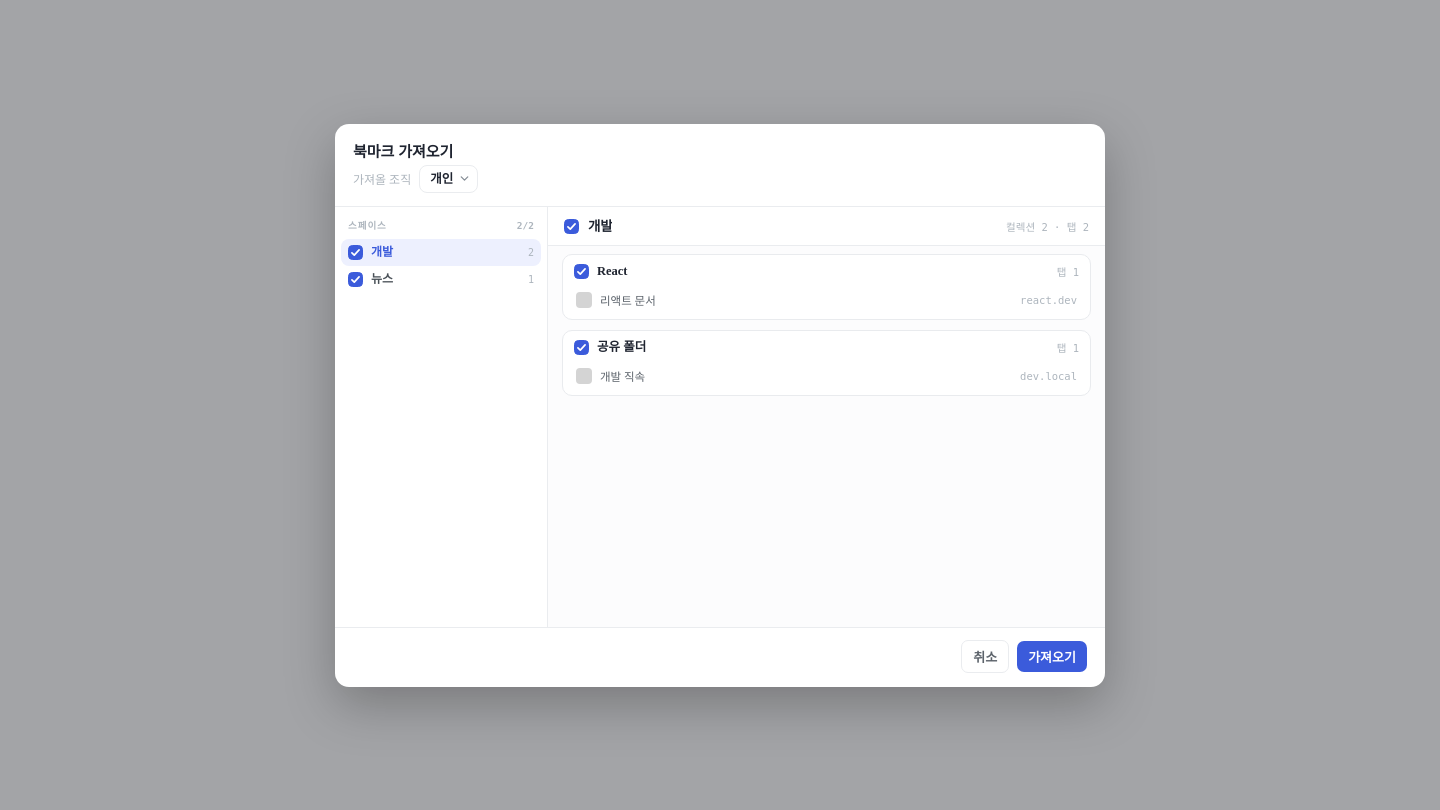
Test: ImportBookmarksDialog › 보드 헤더 체크박스도 스페이스 전체를 토글한다
Click the checkbox named "개발 포함" in the row of "컬렉션" at (572, 226), box [564,218,579,234]
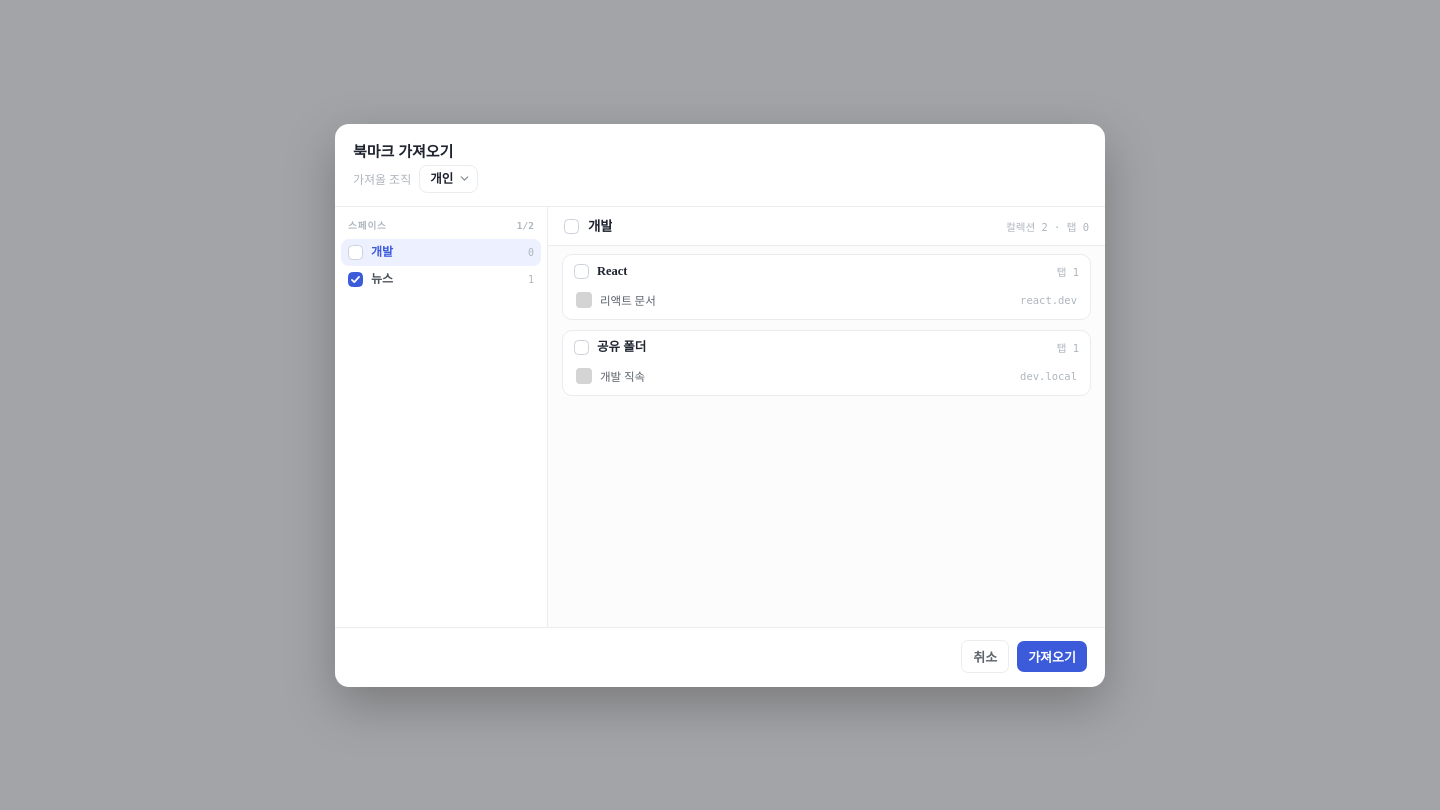
Check: the text with test id "space-count" reads "1/2", box [517,220,534,230]
